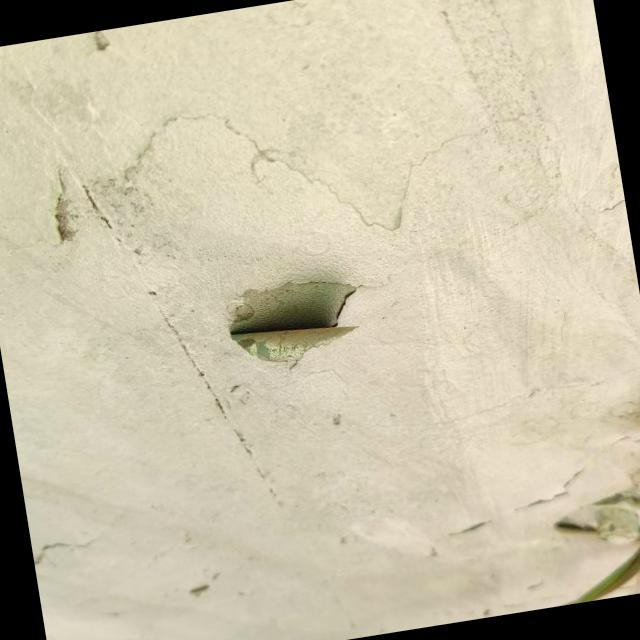paint-off: (198, 248, 388, 392)
